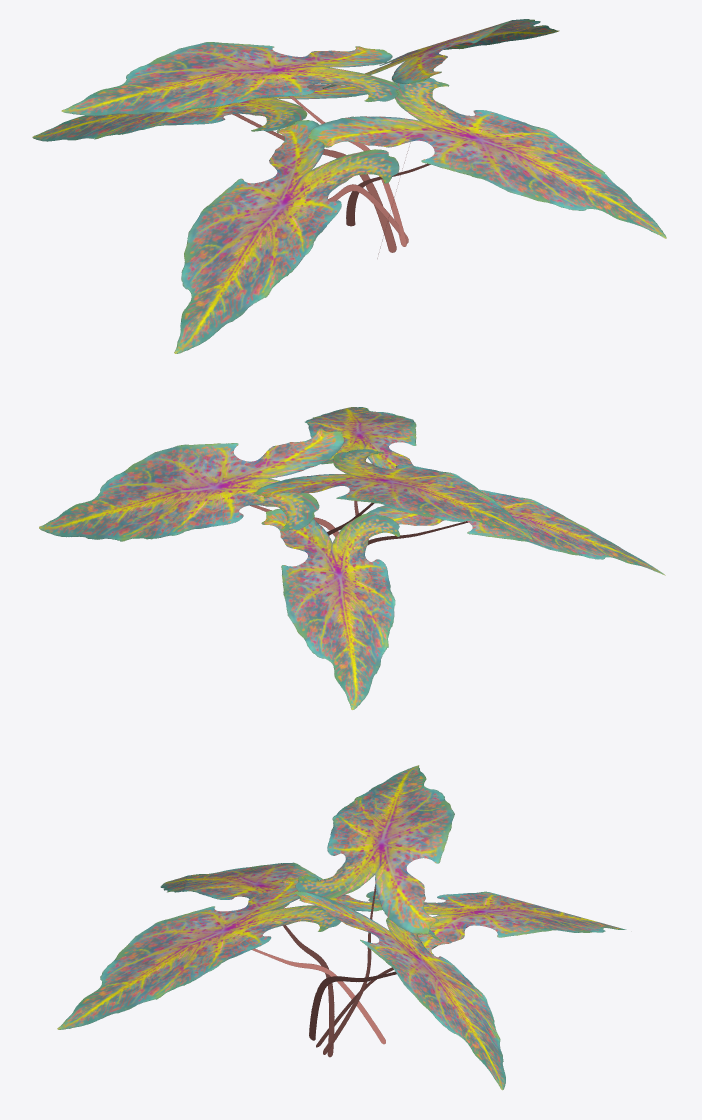
File: Sickle Wort 2.fbx
3 views of the same model, one above another, from view 1: azimuth 30°, elevation 25°; view 2: azimuth 150°, elevation 25°; view 3: azimuth 270°, elevation 25° (orthographic). The views are drawn at different scales.
Parts seen in each view (by area): view 1: Sickle Wort 2; view 2: Sickle Wort 2; view 3: Sickle Wort 2.
Part boxes in pixels (x1,y1,x2,y2): Sickle Wort 2: (32,19,666,353); Sickle Wort 2: (39,407,665,709); Sickle Wort 2: (57,765,626,1090).
Size of the model in its own units: 242 by 70.03 by 237.
